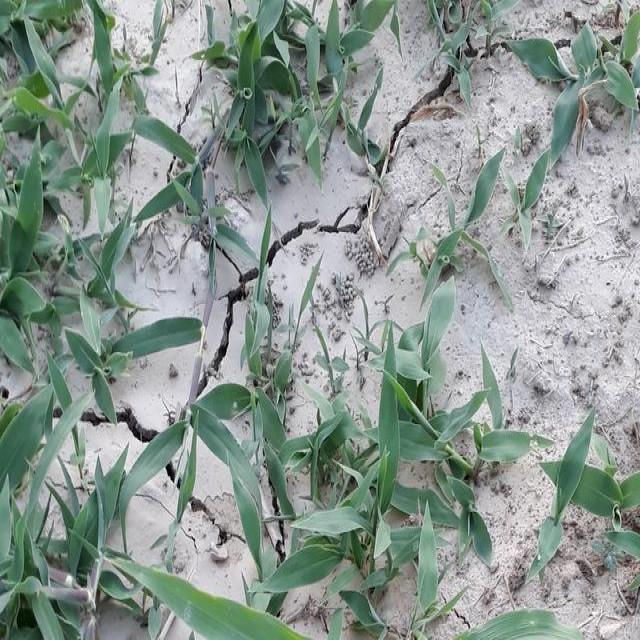weed: (0, 0, 189, 637), (235, 319, 568, 632), (217, 0, 380, 199)
